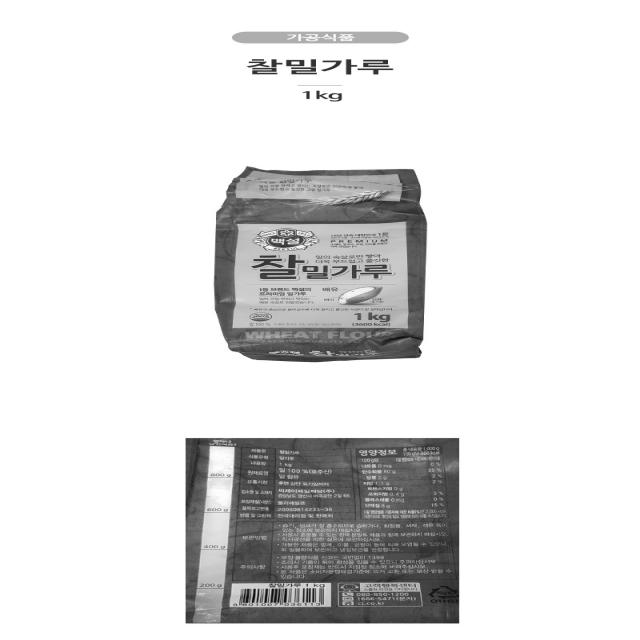Nutrition Label: (346, 443, 460, 525)
